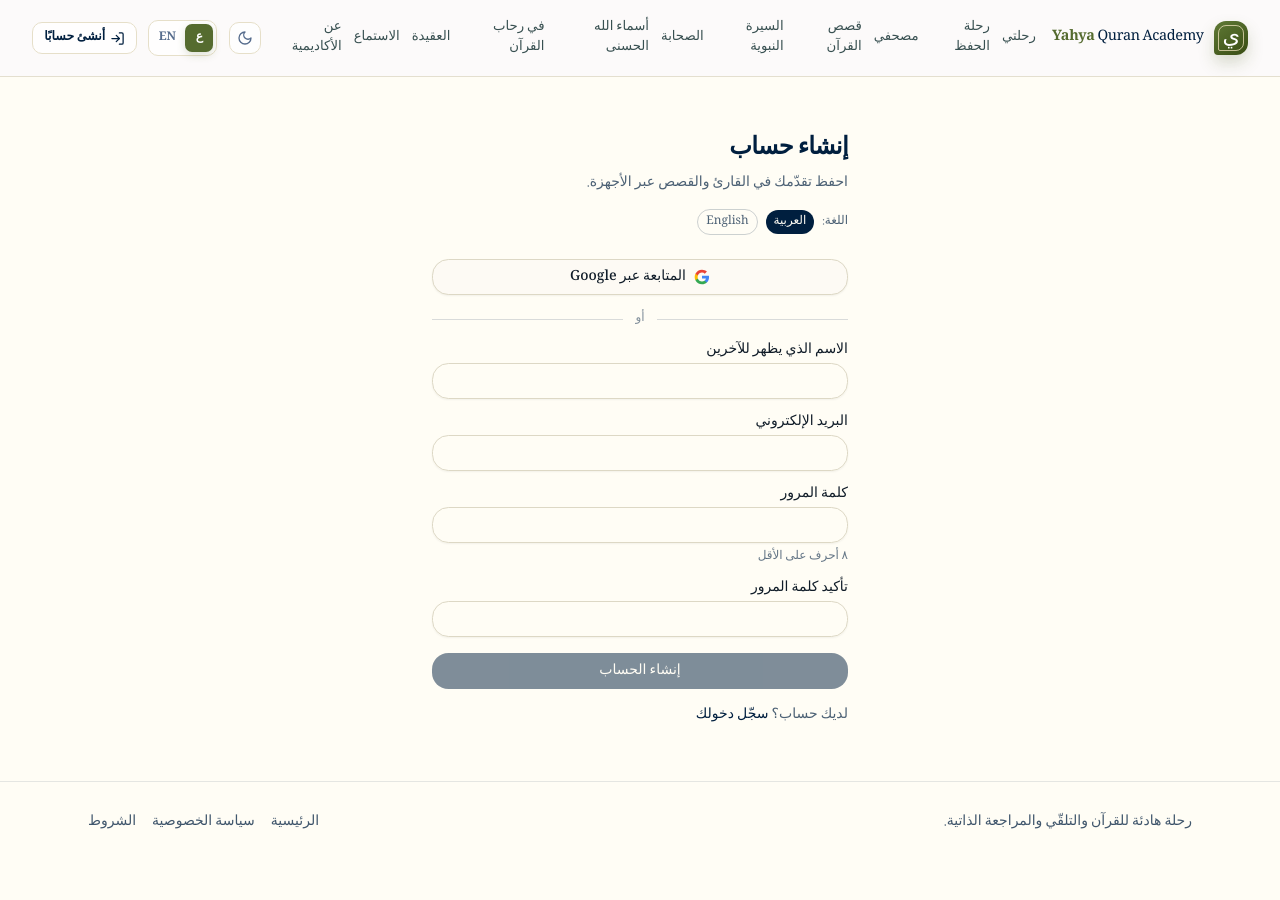
Scenario: the register form's password check › lets an ordinary password through
Expected: the password field with test id "register-password" is shown, [432,507,848,543]
Step 1. Type "أحمد" into the field with test id "register-name" → (640, 381), box [432,363,848,399]
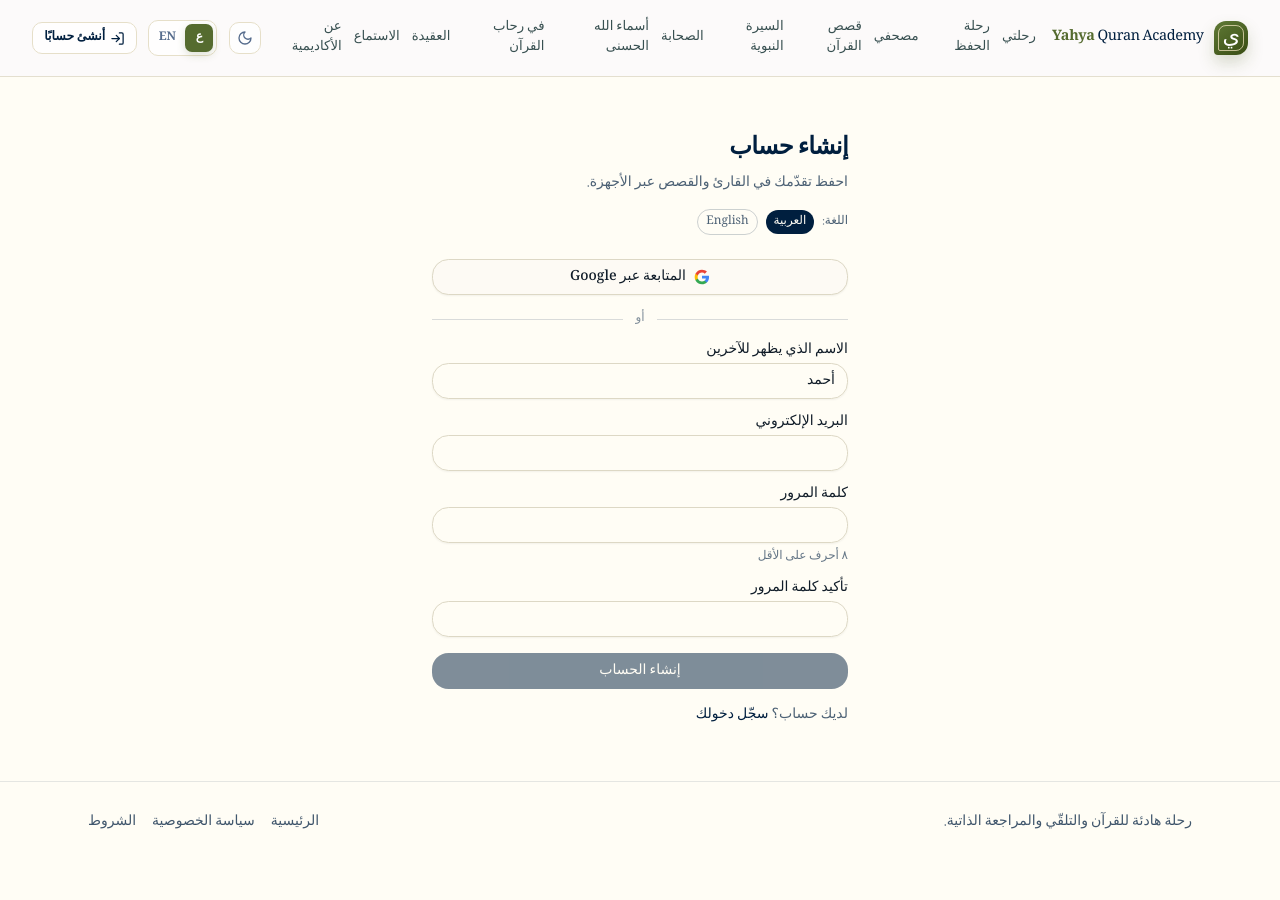
Step 2. Type "ahmed@example.com" into the field with test id "register-email" → (640, 453), box [432,435,848,471]
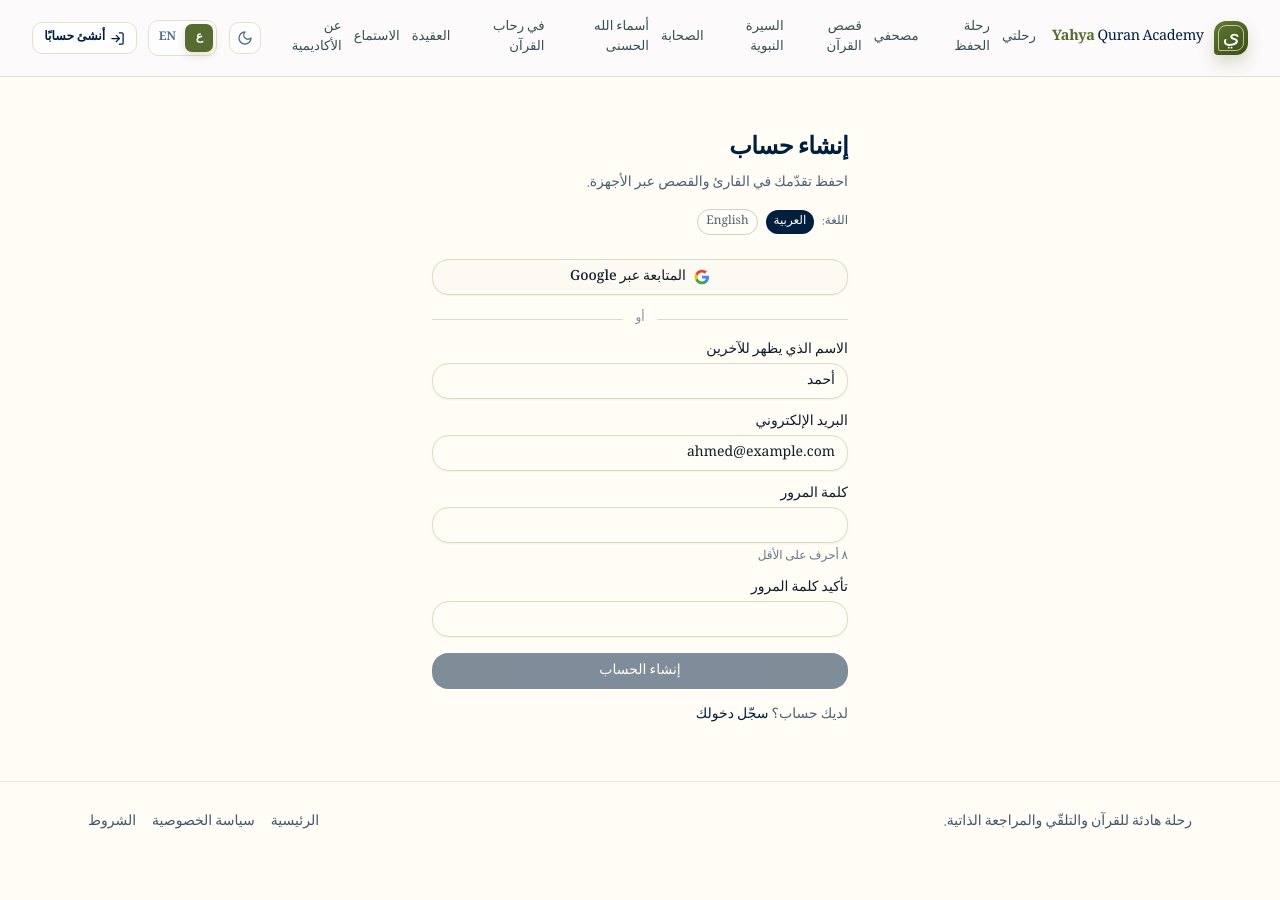
Step 3. Type "marmalade-window-7" into the password field with test id "register-password" → (640, 525), box [432,507,848,543]
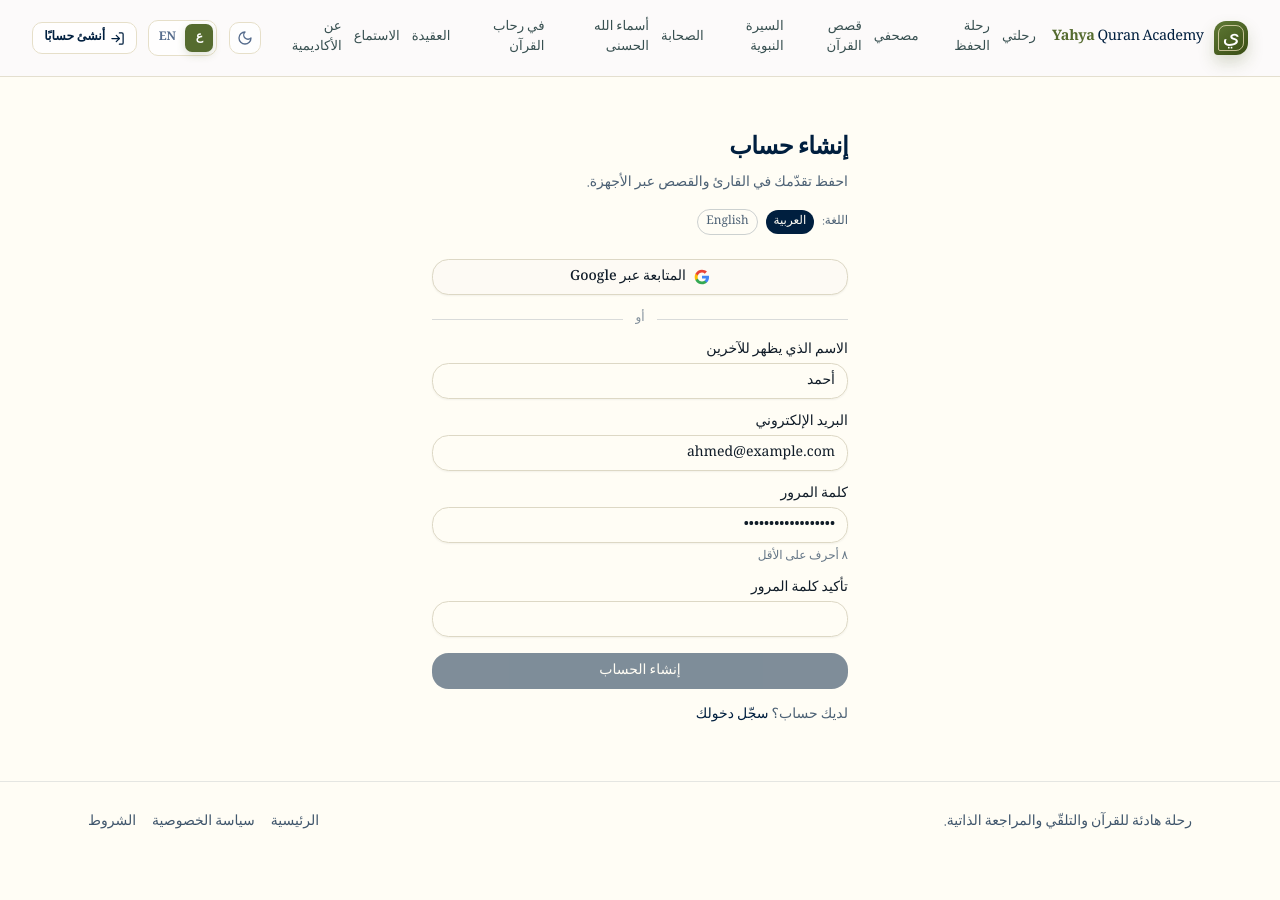
Step 4. Type "marmalade-window-7" into the password field with test id "register-confirm" → (640, 619), box [432,601,848,637]
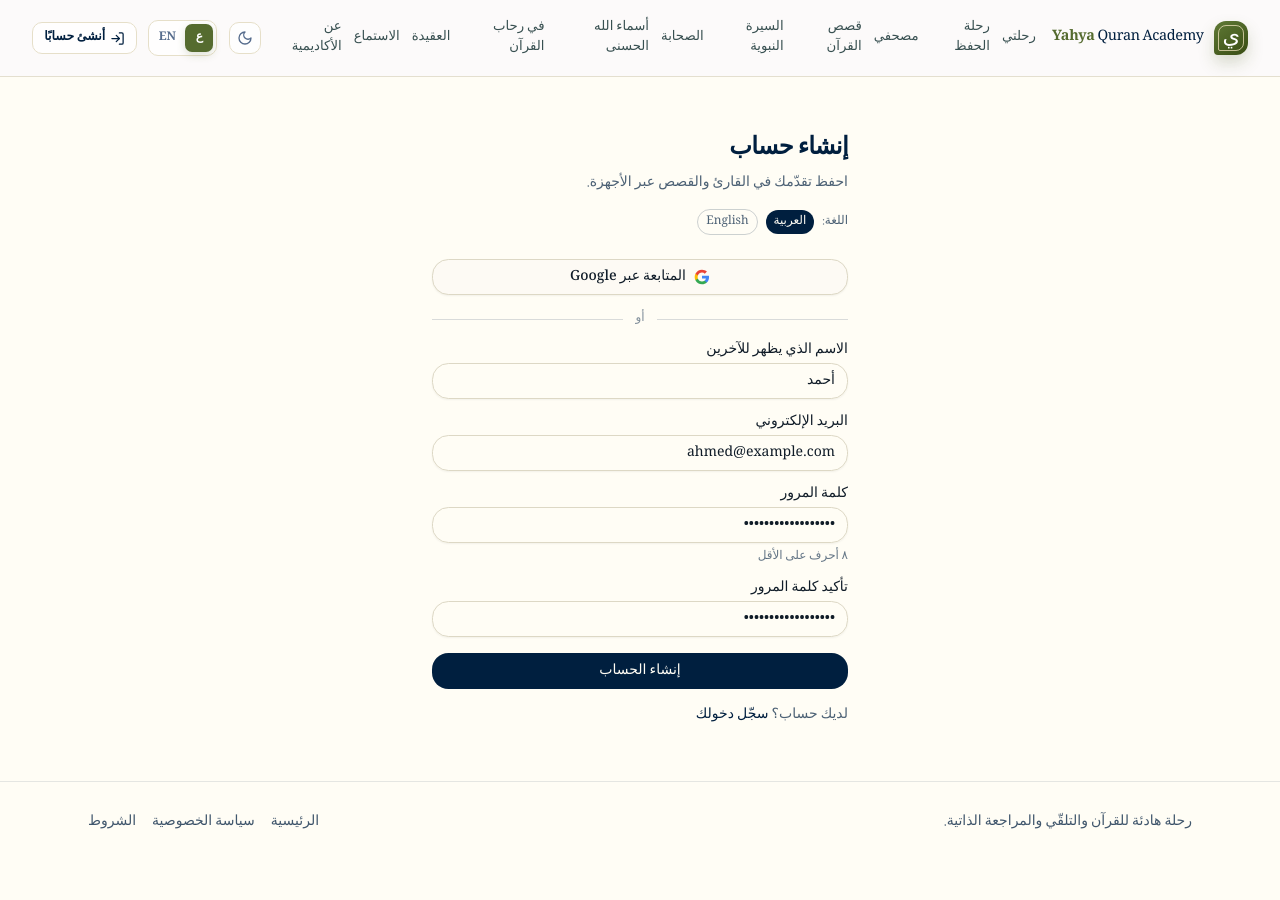
Now the button with test id "register-submit" is enabled, box [432,653,848,689]
